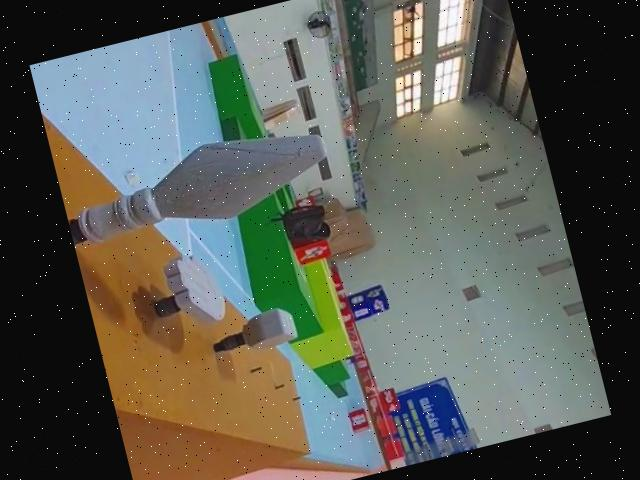Fist: (205, 301, 299, 362)
Hand: (141, 248, 232, 335)
Sph: (58, 115, 344, 262)
